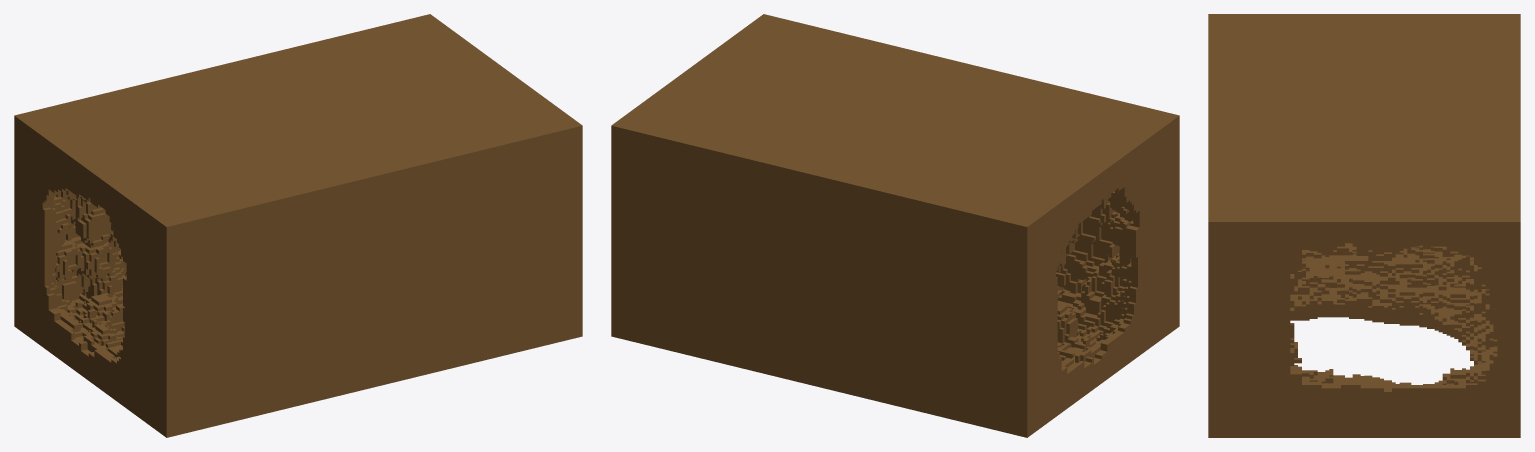
Rendered from Level 1 pathway 2.3.obj.
3 views of the same model, side by side, from view 1: azimuth 30°, elevation 25°; view 2: azimuth 150°, elevation 25°; view 3: azimuth 270°, elevation 25° (orthographic). The views are drawn at different scales.
Size of the model in its own units: 126 by 61 by 80.
1 material, 1 textured.
